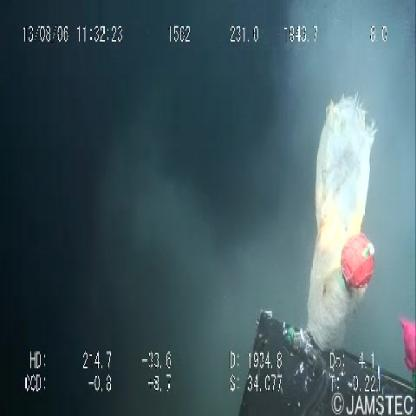Rov: (228, 308, 416, 416)
Rác: (296, 86, 384, 361)
